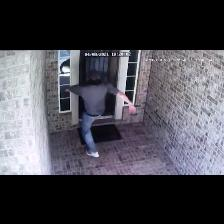person: (66, 71, 136, 157)
